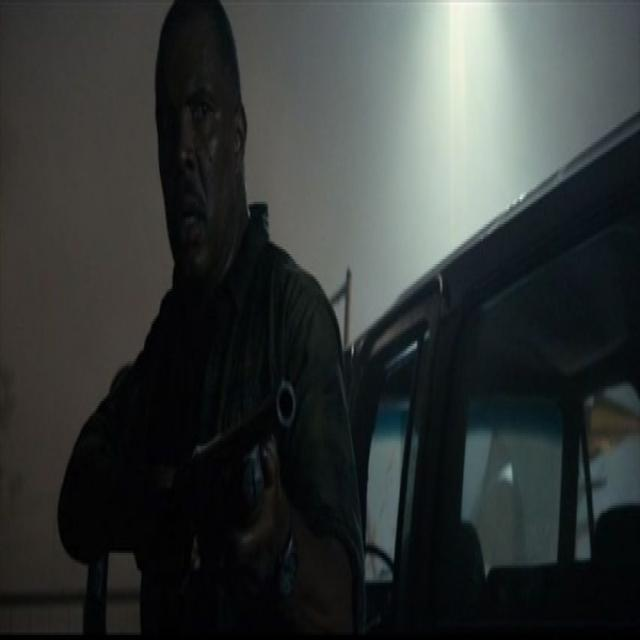rifle: (157, 382, 302, 520)
